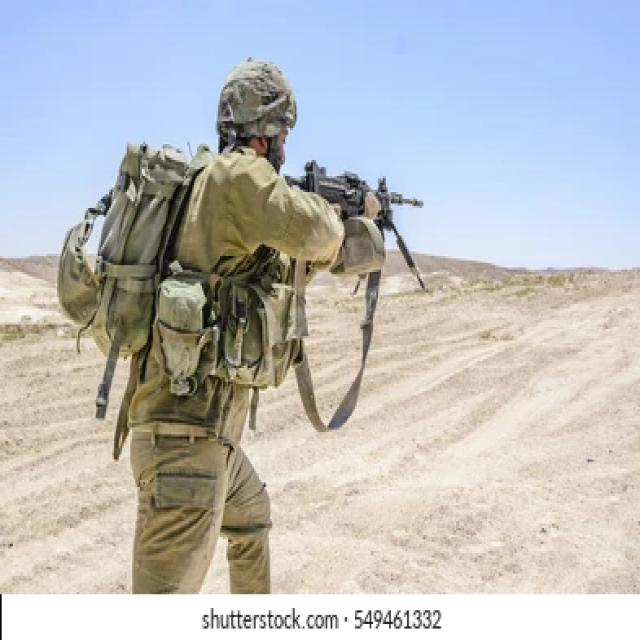soldier: (58, 60, 420, 598)
